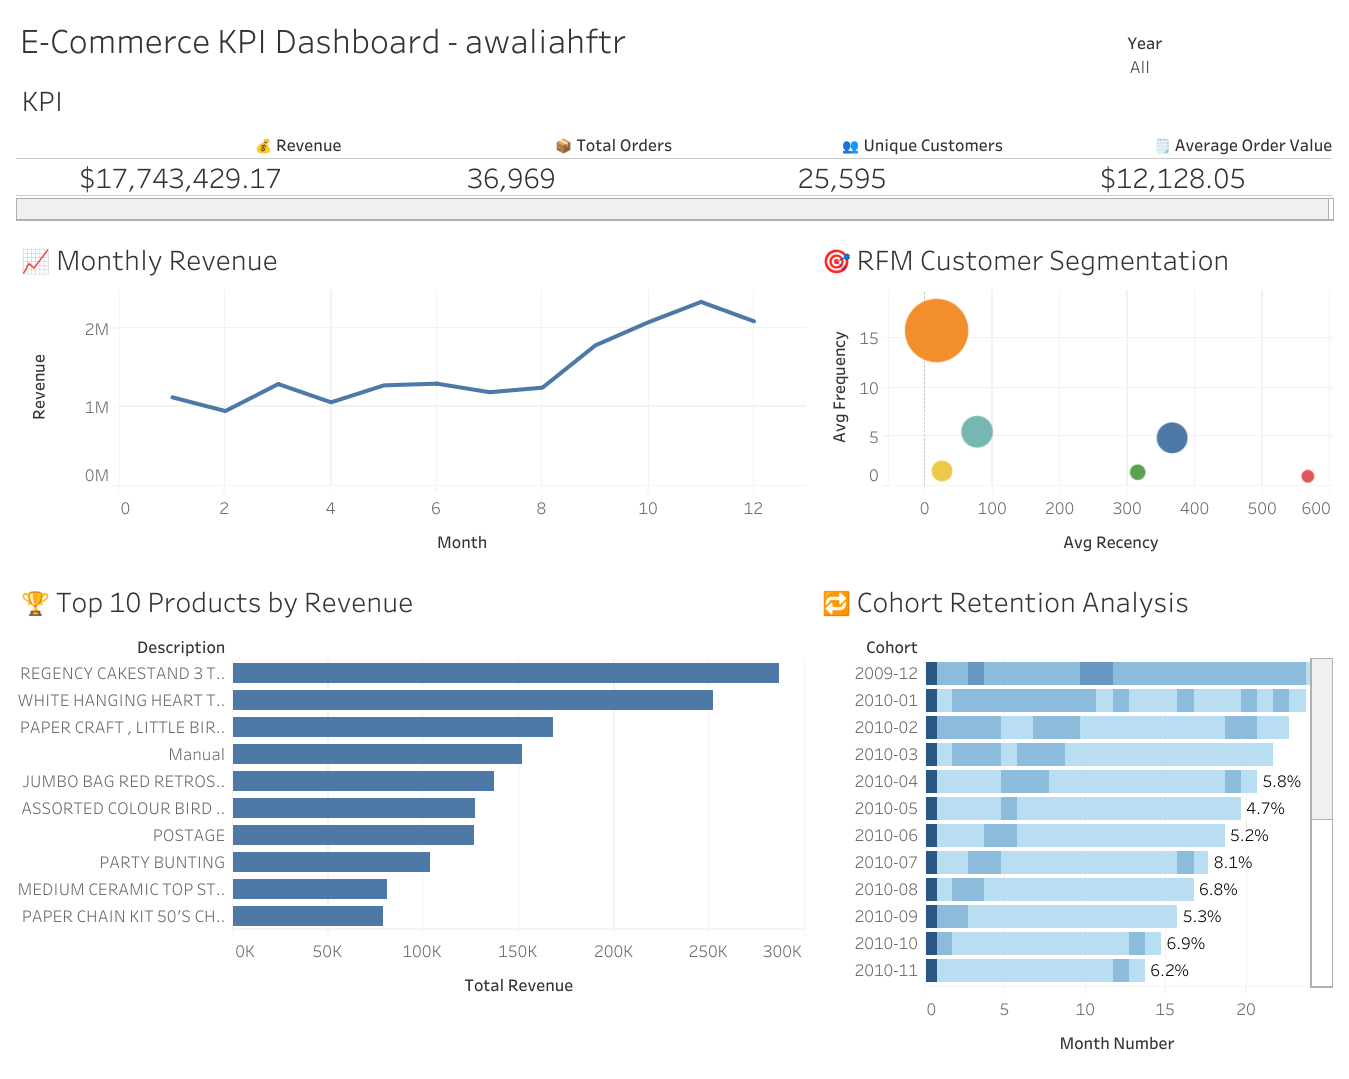

This screenshot's page, from the dashboard's own definition file:
{"tool":"tableau","page":{"name":"Dashboard 1","canvas":[1000,800],"ordinal":0},"visuals":[{"type":"filter","title":"Revenue Trend","param":"[federated.0myut1x1gupg6218b7rn31i4opty].[none:year:ok]","box":[781,7,186,74]},{"type":"title","box":[8,8,984,48]},{"type":"worksheet","title":"KPI Cards","mark":"Automatic","box":[8,56,984,157]},{"type":"worksheet","title":"Revenue Trend","mark":"Automatic","rows":["revenue"],"cols":["month"],"box":[8,213,486,297.4]},{"type":"worksheet","title":"RFM Chart","mark":"Circle","box":[494,213,498,297.4]},{"type":"worksheet","title":"Top Products","mark":"Automatic","rows":["description"],"cols":["total_revenue"],"box":[8,510.4,604,281.6]},{"type":"worksheet","title":"Cohort Retention","mark":"Square","rows":["cohort"],"cols":["month_number"],"box":[612,510.4,380,281.6]}]}

Visuals, with their boxes in screenshot pixels (x1, y1, x2, y2), scaled from the page's 1000x800 canvas onto the 1349x1079 screenshot:
"Revenue Trend" filter: {"left": 1054, "top": 9, "right": 1304, "bottom": 109}
title: {"left": 11, "top": 11, "right": 1338, "bottom": 76}
"KPI Cards" worksheet: {"left": 11, "top": 76, "right": 1338, "bottom": 287}
"Revenue Trend" worksheet: {"left": 11, "top": 287, "right": 666, "bottom": 688}
"RFM Chart" worksheet (Circle marks): {"left": 666, "top": 287, "right": 1338, "bottom": 688}
"Top Products" worksheet: {"left": 11, "top": 688, "right": 826, "bottom": 1068}
"Cohort Retention" worksheet (Square marks): {"left": 826, "top": 688, "right": 1338, "bottom": 1068}
